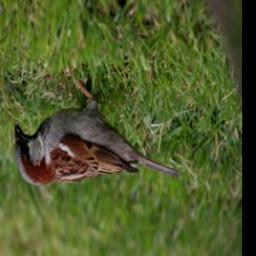Sparrow: (12, 64, 182, 188)
